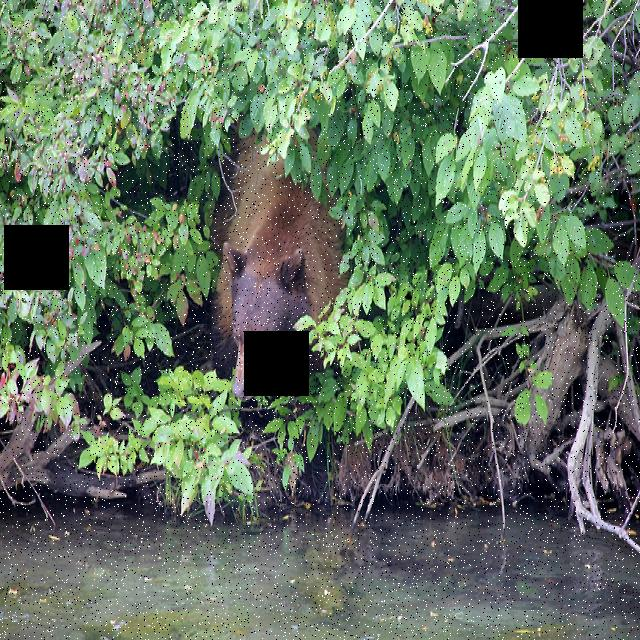Bear: (208, 110, 356, 406)
